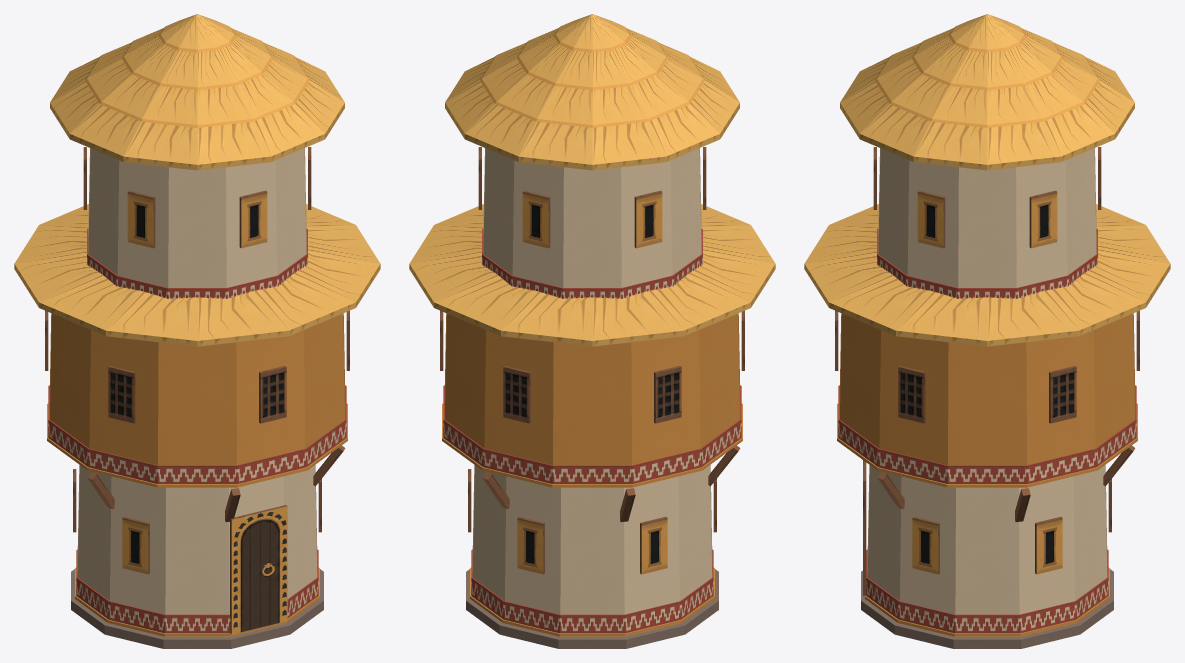
Rendered from SM_RC_MudHut_Round_3F_Overhang.gltf.
The picture shows the model from 3 angles, left to right: view 1: azimuth 30°, elevation 25°; view 2: azimuth 150°, elevation 25°; view 3: azimuth 270°, elevation 25°; orthographic projection.
Parts seen in each view (by area): view 1: SM_RC_WA_MudHut_Round_3F_Overhang_RoofFixed; view 2: SM_RC_WA_MudHut_Round_3F_Overhang_RoofFixed; view 3: SM_RC_WA_MudHut_Round_3F_Overhang_RoofFixed.
Part boxes in pixels (x1,y1,x2,y2): SM_RC_WA_MudHut_Round_3F_Overhang_RoofFixed: (14,14,380,648); SM_RC_WA_MudHut_Round_3F_Overhang_RoofFixed: (409,14,775,648); SM_RC_WA_MudHut_Round_3F_Overhang_RoofFixed: (804,14,1170,648).
Bounding box in the file's own units: 8.24 × 14.44 × 8.24.
1 material, 1 textured.
